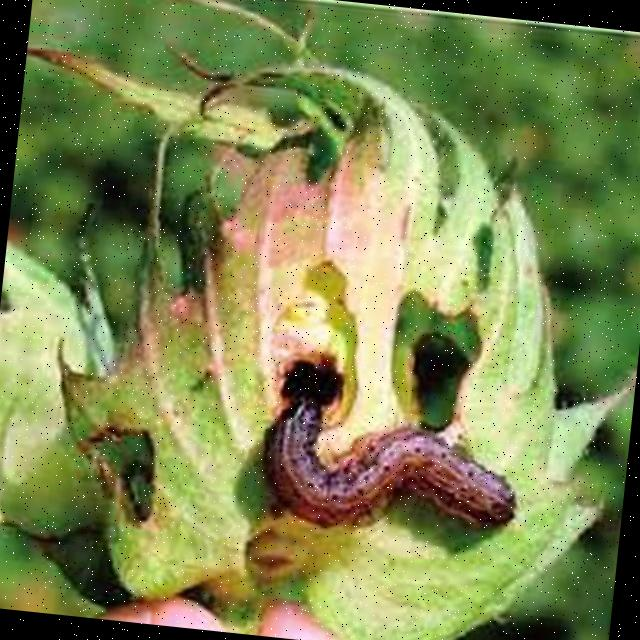worm: (253, 382, 528, 549)
